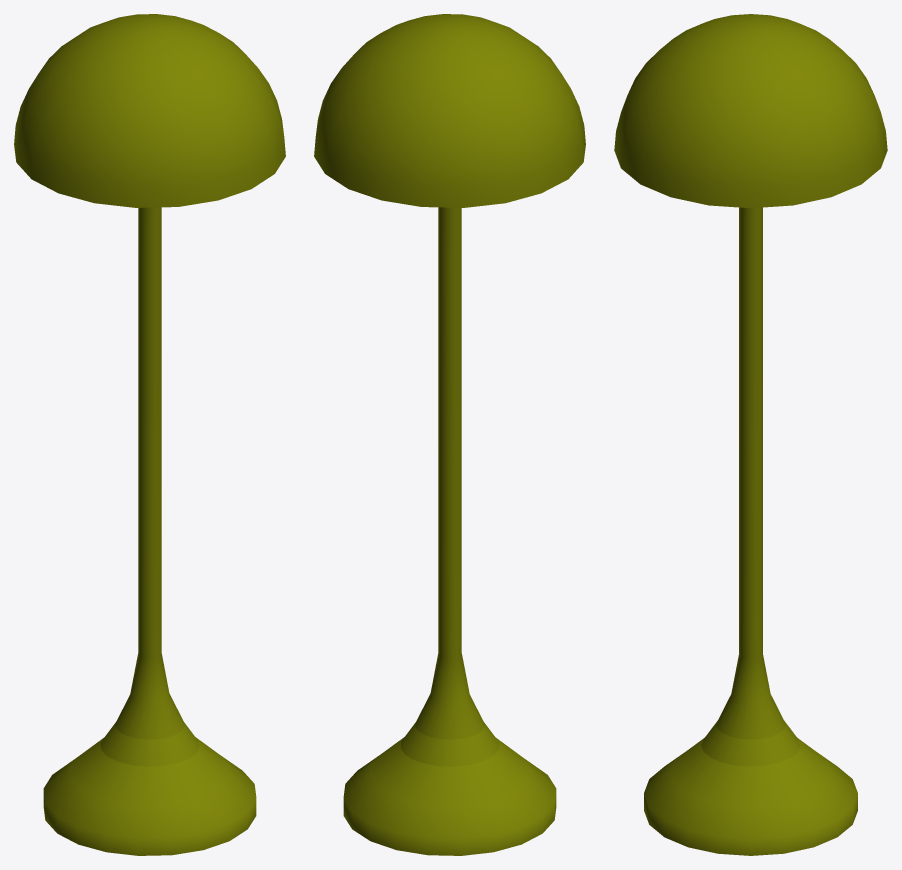
File: LAMP.fbx
The picture shows the model from 3 angles, left to right: view 1: azimuth 30°, elevation 25°; view 2: azimuth 150°, elevation 25°; view 3: azimuth 270°, elevation 25°; orthographic projection.
Parts seen in each view (by area): view 1: lamp; view 2: lamp; view 3: lamp.
Boxes of the visible parts, x1=… form: lamp: x1=14, y1=14, x2=285, y2=855; lamp: x1=314, y1=14, x2=585, y2=855; lamp: x1=614, y1=14, x2=887, y2=855.
Bounding box in the file's own units: 4.11 × 13.01 × 4.11.
